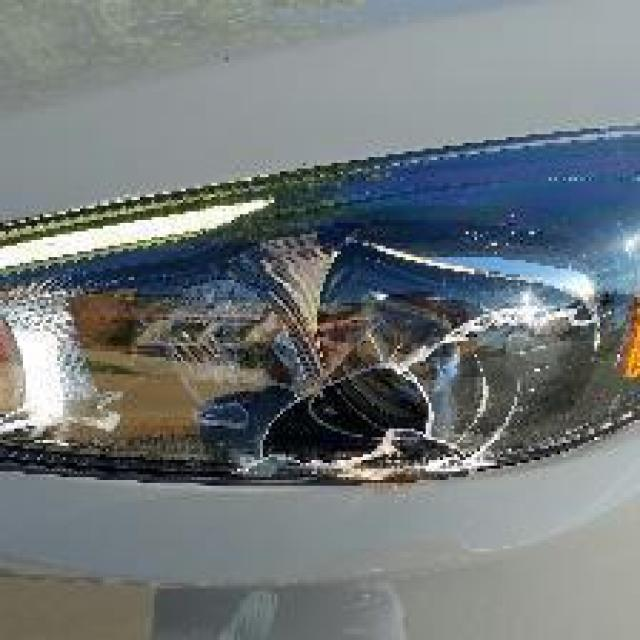damaged: (234, 363, 506, 503), (392, 302, 614, 374)
